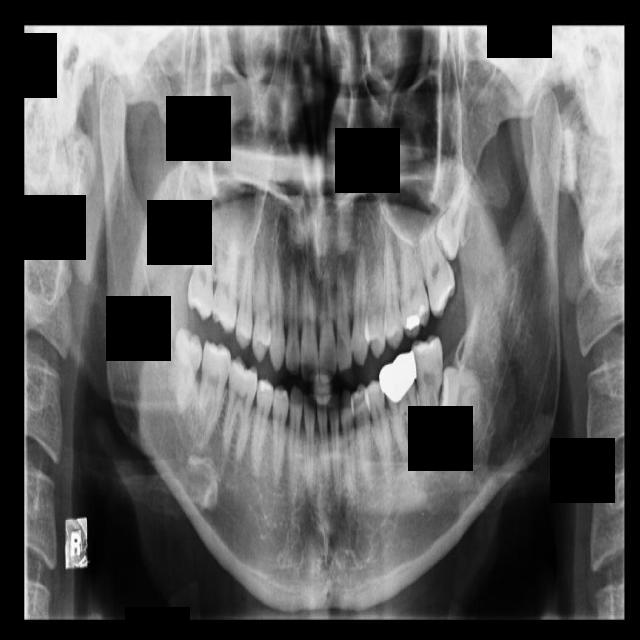52: (367, 346, 432, 408), (396, 282, 434, 341), (255, 378, 275, 416)
73: (590, 530, 592, 546)
BioHorizons Implant: (411, 209, 463, 320)
BioLife Implant: (429, 169, 478, 263)
Biomet 3i Implant: (436, 366, 486, 435)
Blue Sky Bio Implant: (411, 332, 443, 439)
Caries: (187, 214, 213, 321)
Implant: (196, 340, 233, 440)
Keystone Dental Implant: (164, 327, 208, 409)
